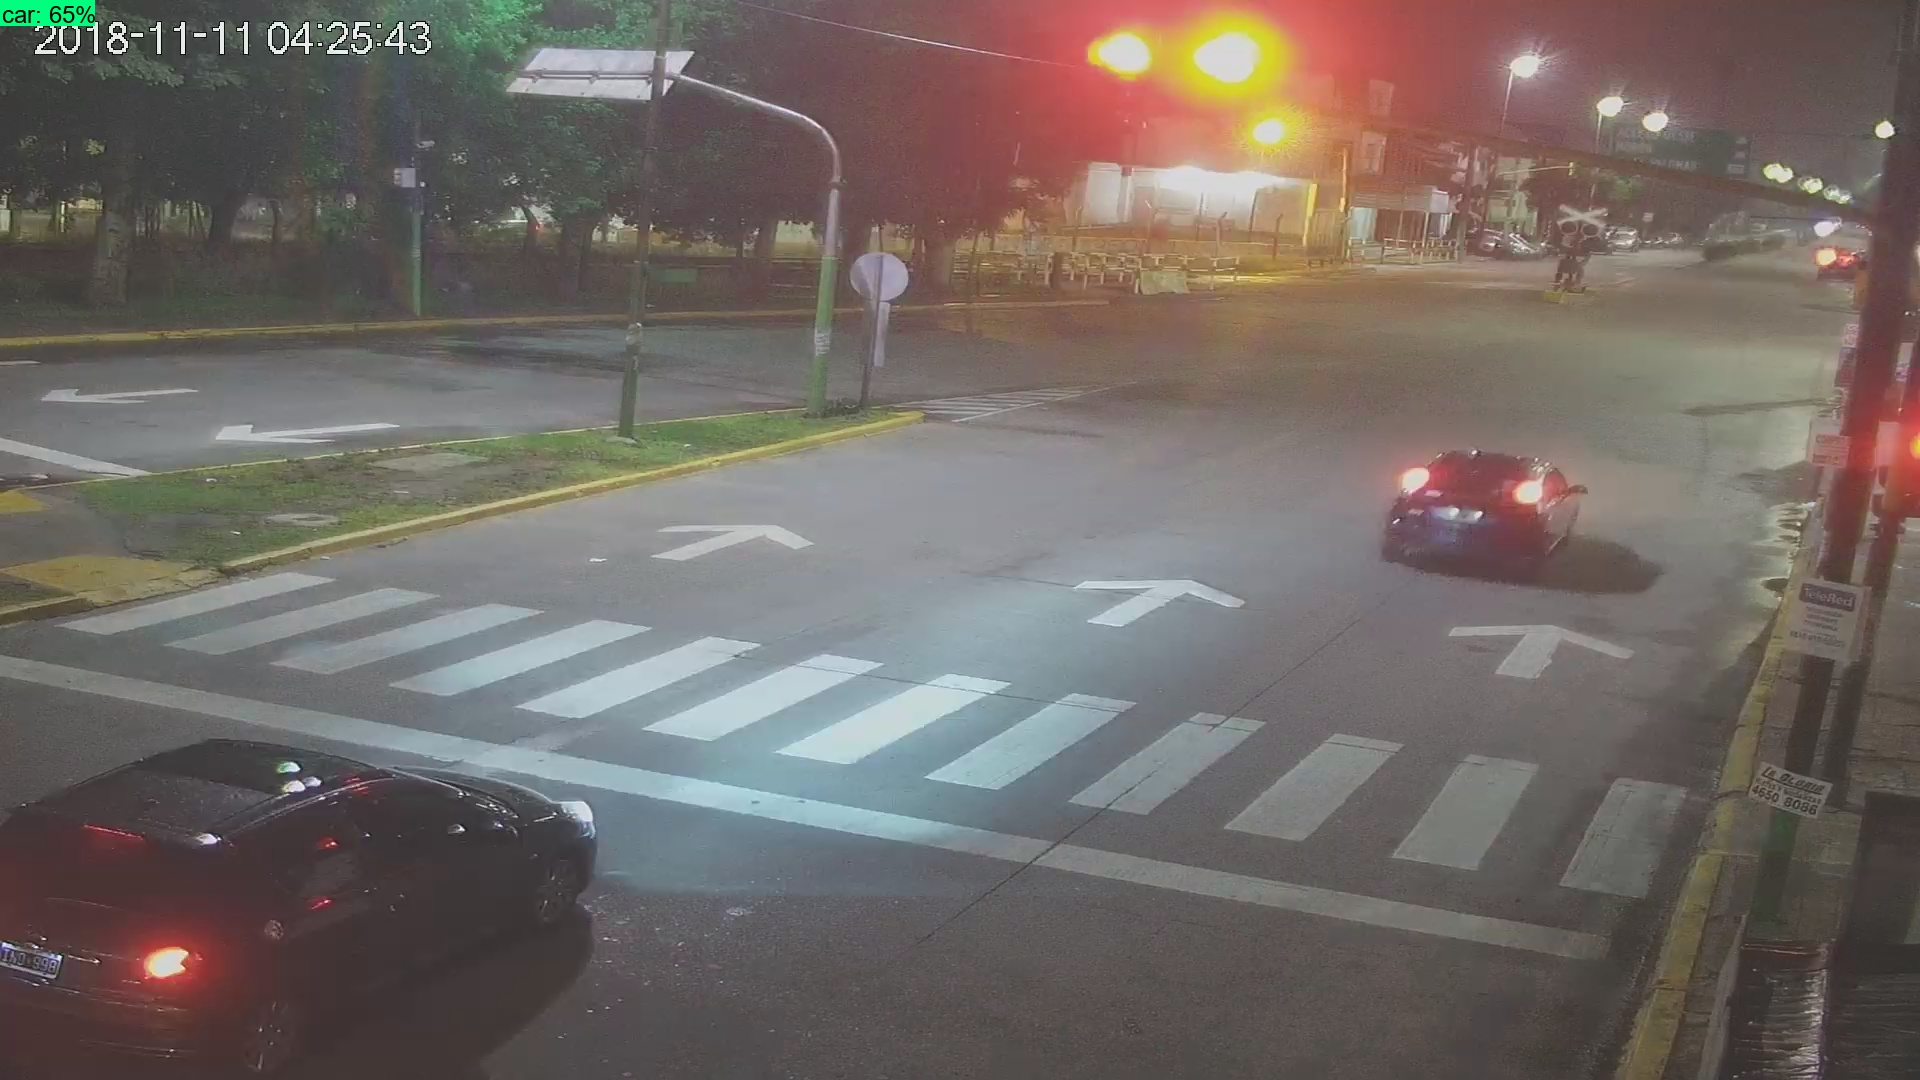car: (11, 738, 607, 1080), (1387, 450, 1590, 578)
